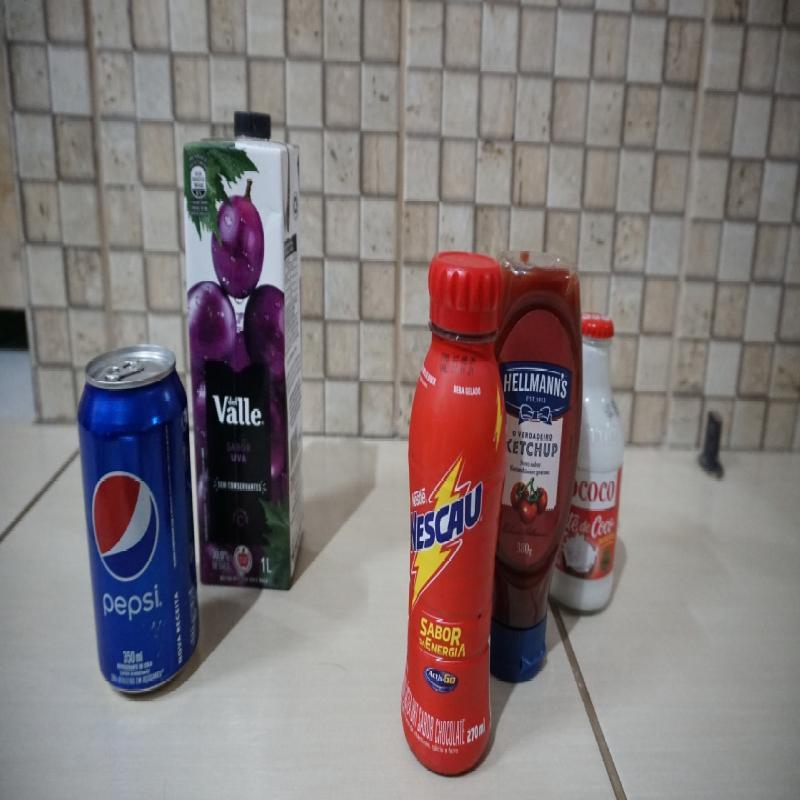Chocolate Milk: (398, 253, 506, 776)
Coconut Milk: (549, 317, 624, 622)
Ketchup: (497, 257, 582, 680)
Soda can: (77, 340, 202, 698)
